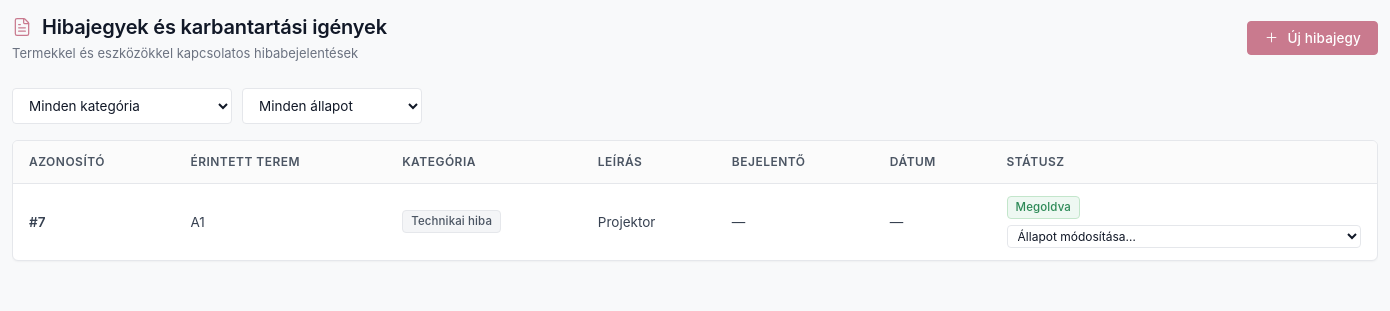
Test: TicketsPage role access › lets administrators move a ticket only to an allowed next status
This screenshot has width=1390, height=311.
Select "Lezárva" in the dropdown named "#7 hibajegy állapotának módosítása" at [1184, 236], box [1007,225,1361,248]
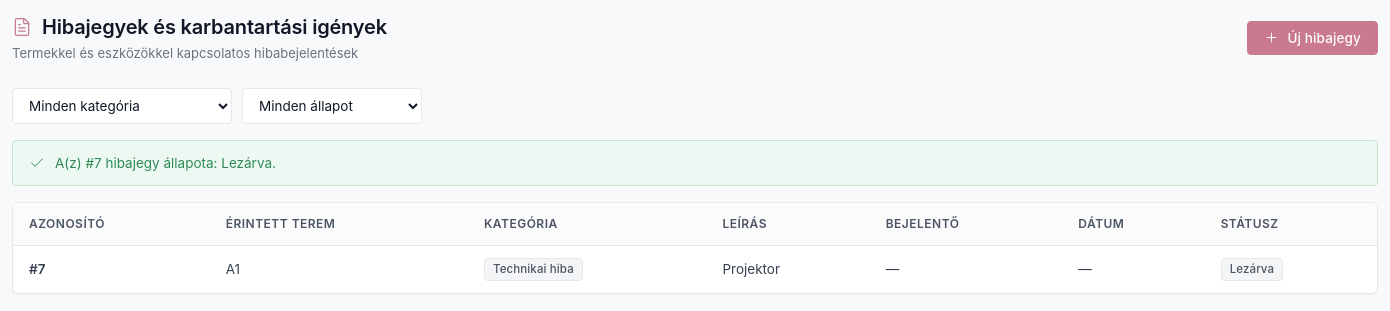
Expected: the text "A(z) #7 hibajegy állapota: Lezárva." is shown, [55,152,276,173]
